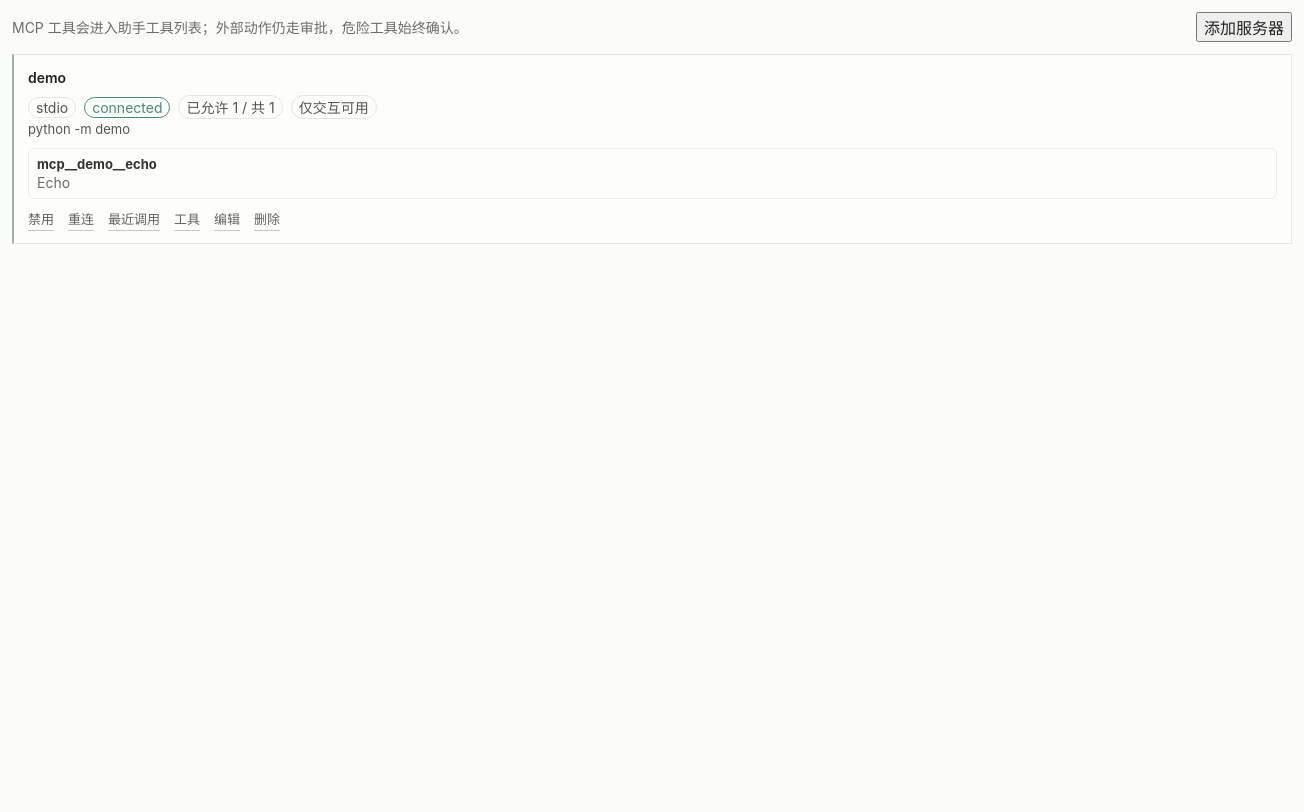
it: F1 添加表单 / 编辑表单互斥（M2） › 点「编辑」会关掉添加表单：两个表单不同时在屏上
Click the button "添加服务器" at (1244, 27), box x1=1196 y1=12 x2=1292 y2=42
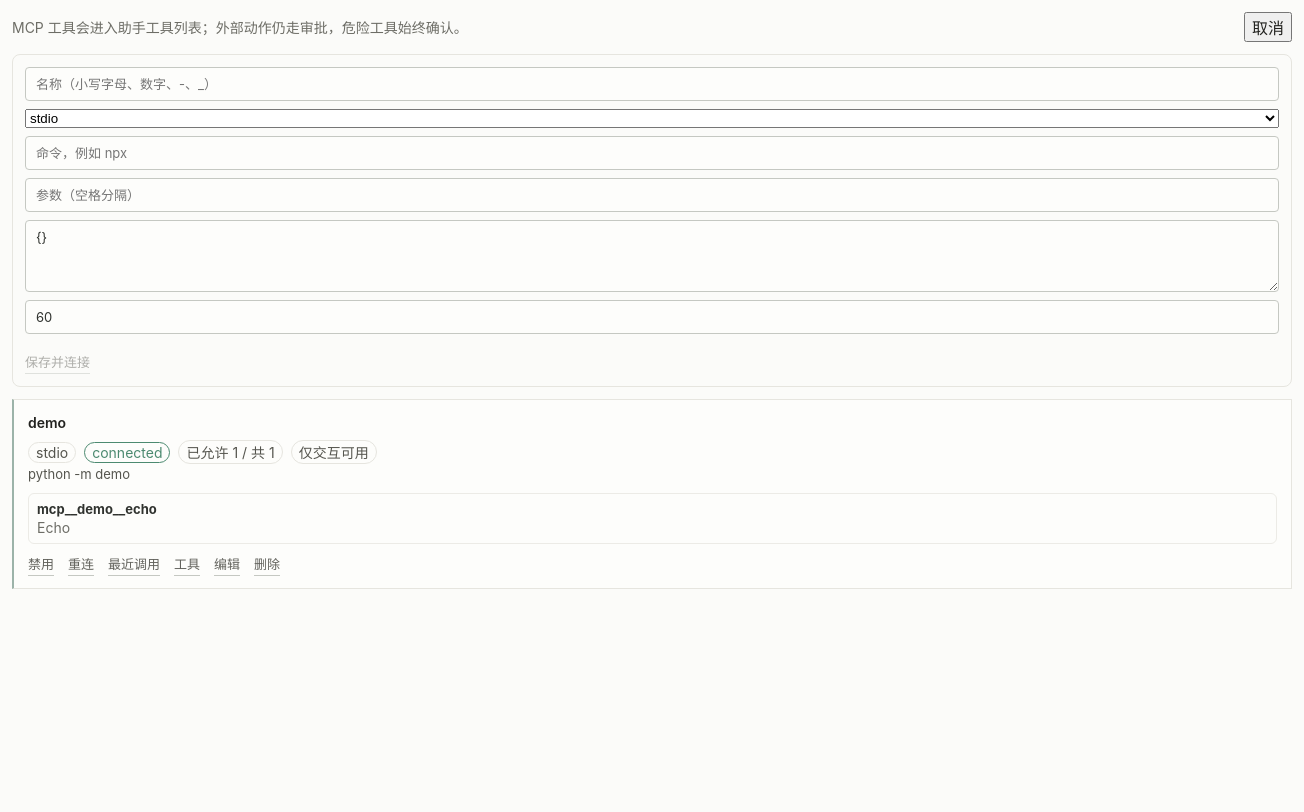
Now the field named "服务器名称" is shown, box x1=25 y1=67 x2=1279 y2=101
Click the button "编辑" at (227, 564), box x1=214 y1=552 x2=240 y2=576
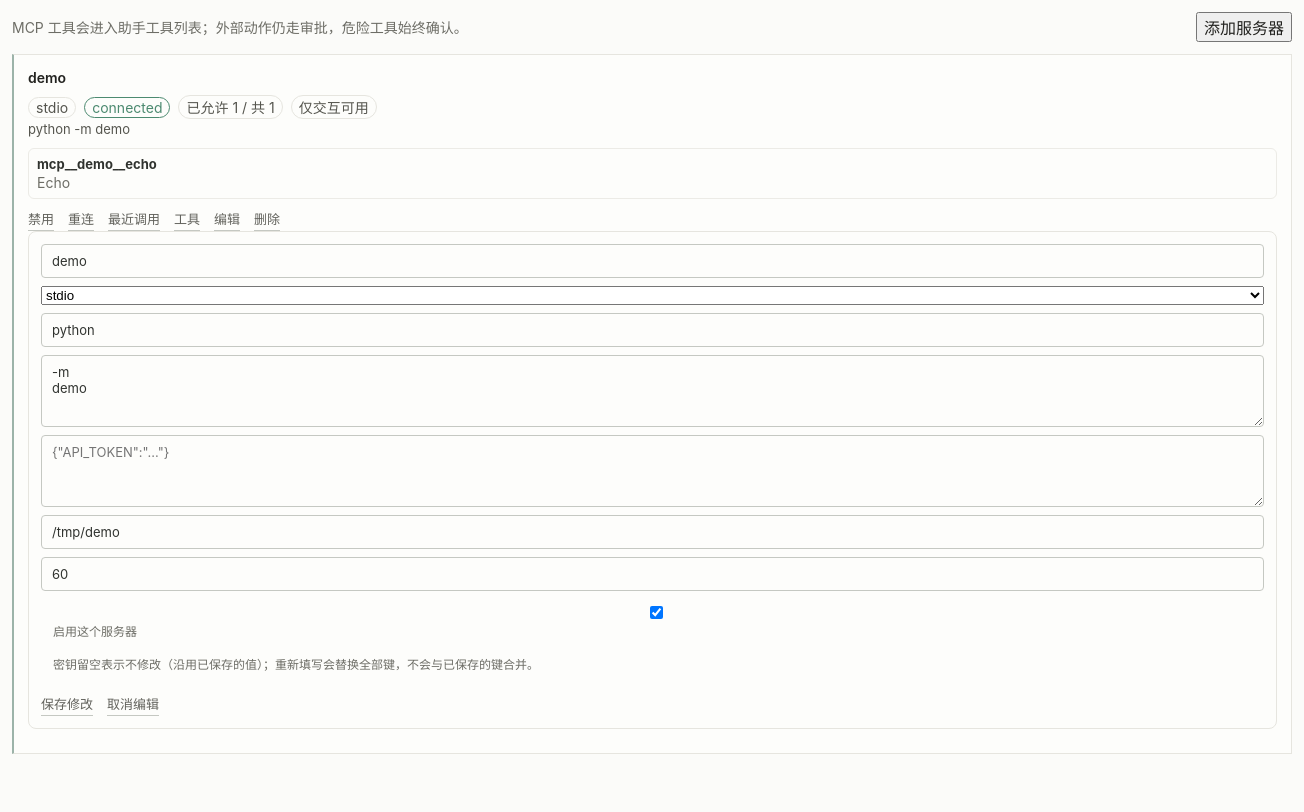
Now the field named "编辑服务器名称" is shown, box x1=41 y1=244 x2=1264 y2=278
Now the field named "服务器名称" is gone
